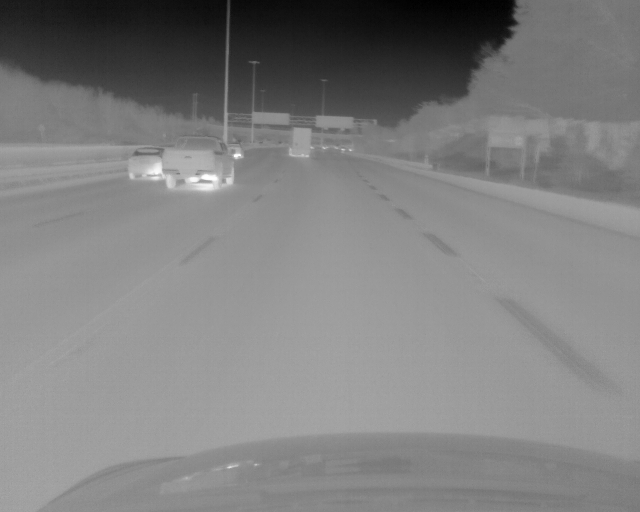car: (162, 136, 233, 190), (126, 147, 163, 179), (287, 127, 311, 157), (229, 142, 244, 159)
